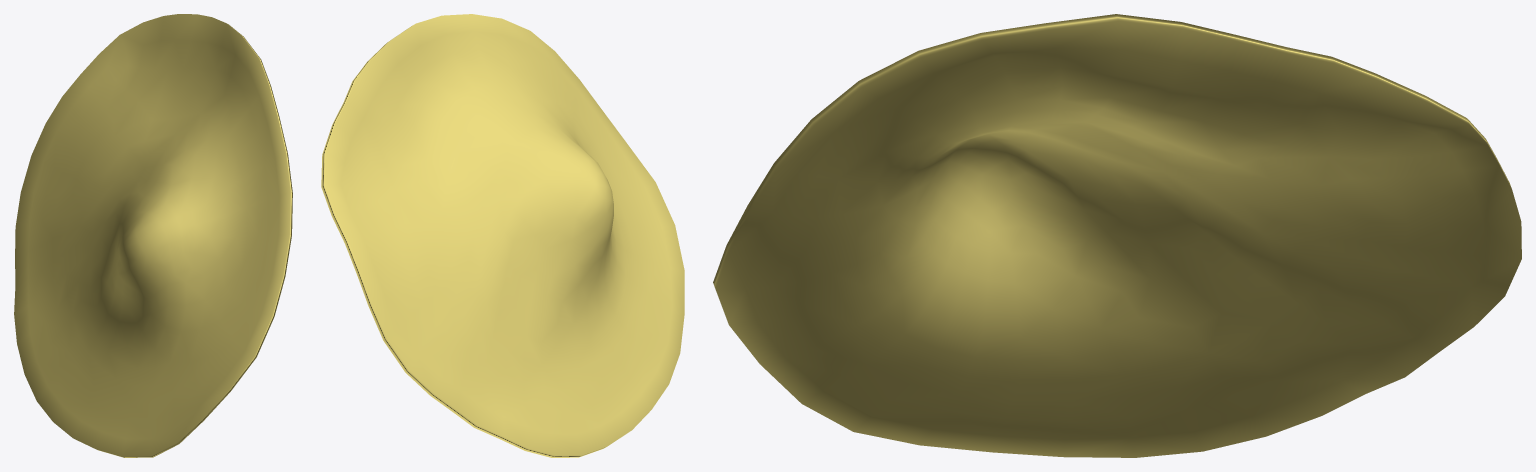
Rendered from tympanic-membrane-l.glb.
3 views of the same model, side by side, from view 1: azimuth 30°, elevation 25°; view 2: azimuth 150°, elevation 25°; view 3: azimuth 270°, elevation 25° (orthographic). The views are drawn at different scales.
Visible parts, largest first — view 1: Tympanic membrane.l; view 2: Tympanic membrane.l; view 3: Tympanic membrane.l.
Boxes of the visible parts, bbox=[...] form: Tympanic membrane.l: bbox=[14, 14, 292, 457]; Tympanic membrane.l: bbox=[321, 14, 684, 457]; Tympanic membrane.l: bbox=[713, 14, 1521, 457].
Bounding box in the file's own units: 0.00497 × 0.0085 × 0.0105.
